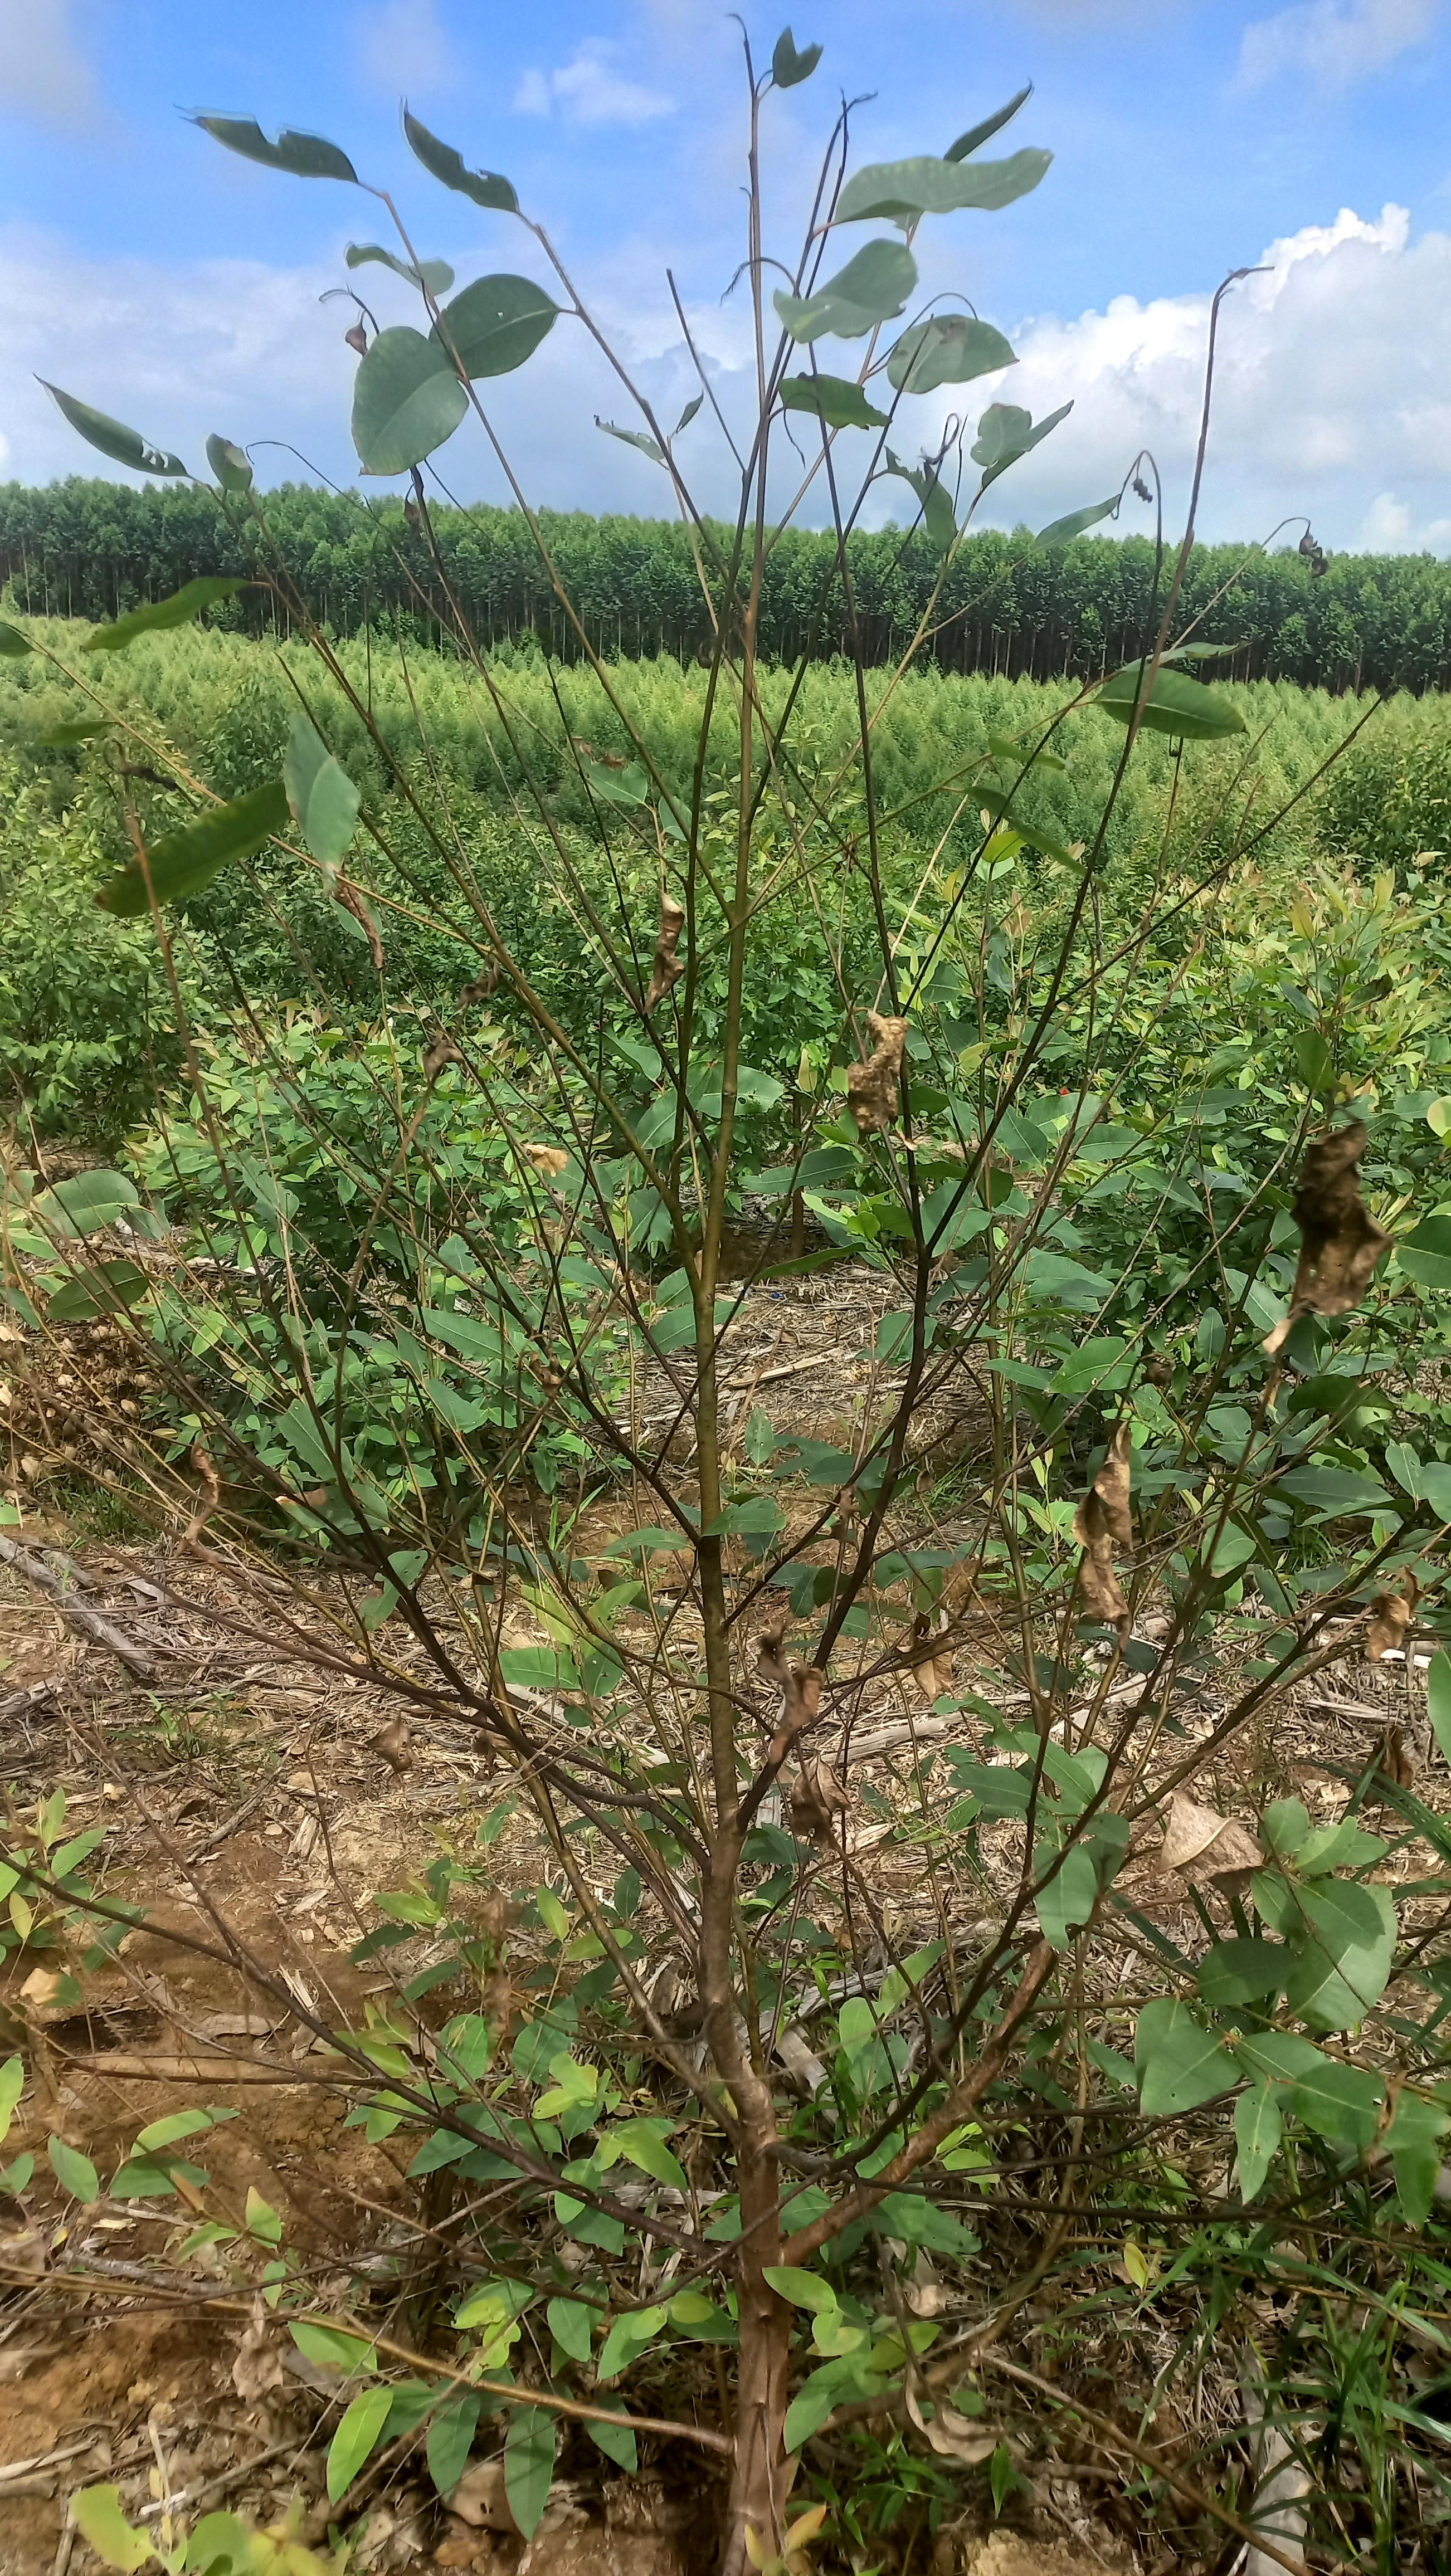Helopeltis-Withered Sprout: (1285, 1113, 1400, 1339), (842, 993, 931, 1150), (1163, 1785, 1295, 1884), (1079, 1428, 1141, 1635), (602, 387, 713, 481), (630, 886, 706, 1019), (779, 1755, 869, 1851), (759, 1629, 826, 1737), (326, 869, 388, 984), (1359, 1573, 1428, 1668), (380, 1704, 448, 1799), (453, 1877, 526, 1966), (910, 400, 968, 499), (513, 1355, 591, 1415), (1124, 430, 1173, 515), (1375, 1729, 1430, 1805), (908, 1621, 956, 1702), (1294, 508, 1336, 584), (334, 304, 375, 357), (398, 492, 435, 538)
